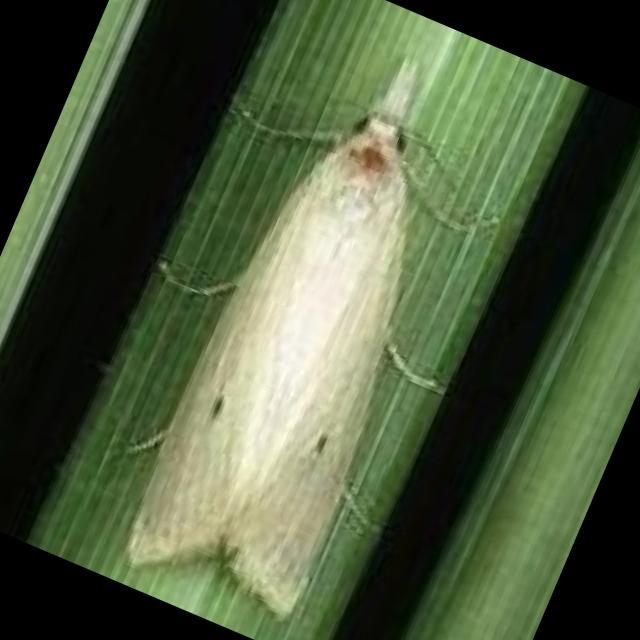stem-borer: (76, 6, 528, 638)
